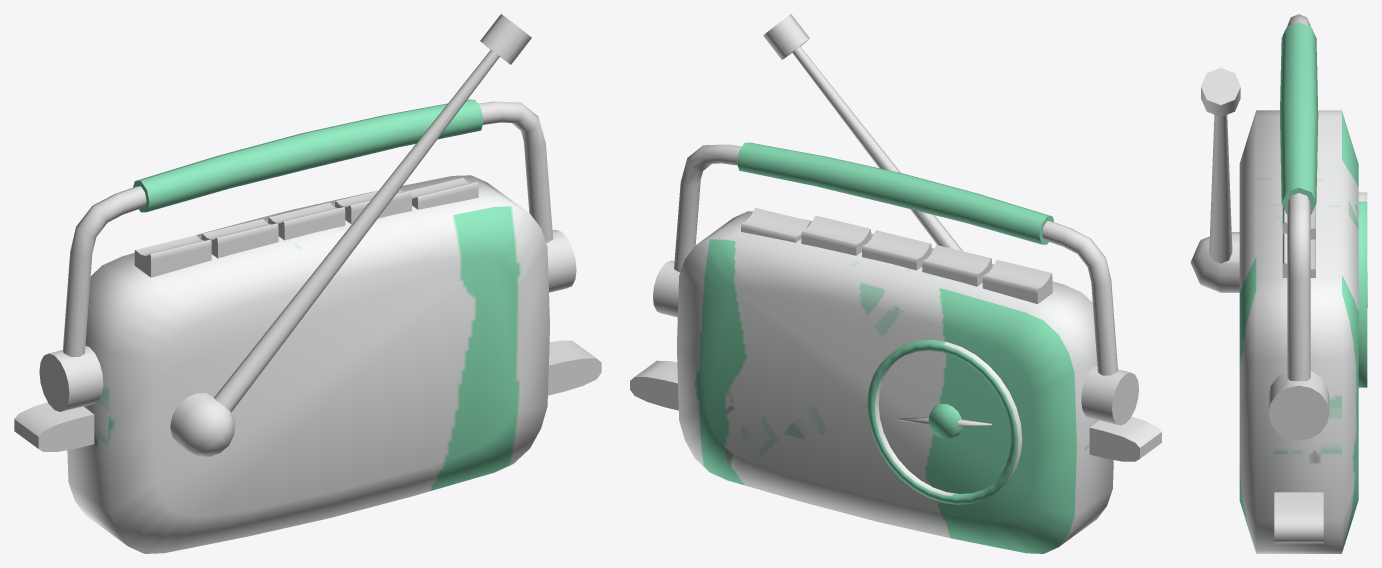
File: Radio Jr LP.fbx
3 renders of one model, left to right at view 1: azimuth 30°, elevation 25°; view 2: azimuth 150°, elevation 25°; view 3: azimuth 270°, elevation 25°, orthographic. The views are drawn at different scales.
Parts seen in each view (by area): view 1: Radio, Hoofle.001, Antenna, Freequency Lever, Volume Lever, U2, U1, K, L, M; view 2: Radio, Hoofle.001, Antenna, Freequency Lever, U2, U1, M, K, Volume Lever, L; view 3: Radio, Hoofle.001, Antenna, Volume Lever, L, M.
Part boxes in pixels (x1,y1,x2,y2): Radio: [67, 175, 549, 553]; Hoofle.001: [39, 99, 576, 411]; Antenna: [170, 14, 531, 456]; Freequency Lever: [14, 402, 94, 451]; Volume Lever: [548, 340, 601, 395]; U2: [134, 235, 211, 277]; U1: [201, 219, 278, 258]; K: [268, 202, 345, 240]; L: [405, 178, 478, 209]; M: [335, 189, 411, 224]; Radio: [676, 211, 1113, 553]; Hoofle.001: [653, 142, 1138, 425]; Antenna: [763, 14, 962, 251]; Freequency Lever: [1089, 416, 1161, 461]; U2: [982, 259, 1052, 303]; U1: [922, 245, 991, 286]; M: [801, 215, 871, 255]; K: [862, 230, 931, 270]; Volume Lever: [630, 360, 678, 410]; L: [741, 207, 810, 242]; Radio: [1239, 110, 1367, 553]; Hoofle.001: [1268, 14, 1329, 440]; Antenna: [1190, 68, 1240, 292]; Volume Lever: [1274, 492, 1323, 543]; L: [1282, 233, 1315, 277]; M: [1282, 205, 1315, 241].
Bounding box in the file's own units: 152 × 123 × 40.77.
